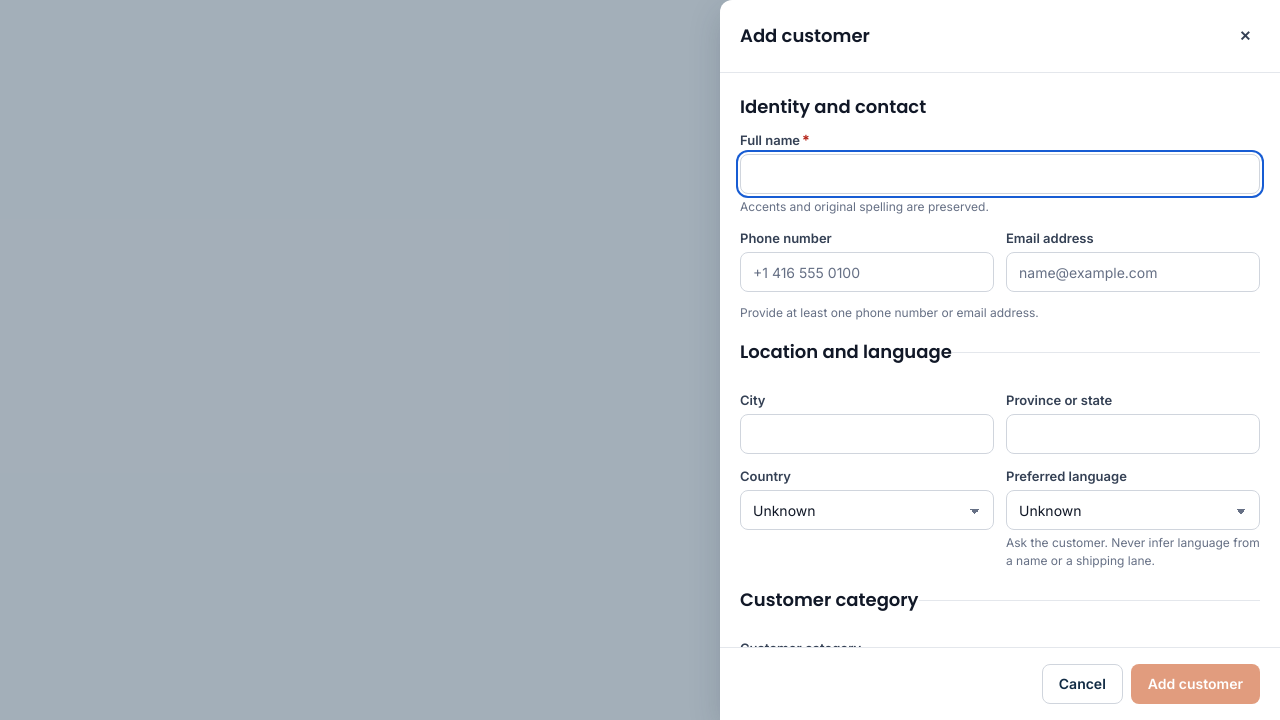
Test: Add customer › error summary › puts a server field error in the summary and beside the field
# A shape the browser accepts and the server still refuses.
Type "Trần Văn Bình" into the field labelled "Full name" at (1000, 174), box x1=740 y1=154 x2=1260 y2=194
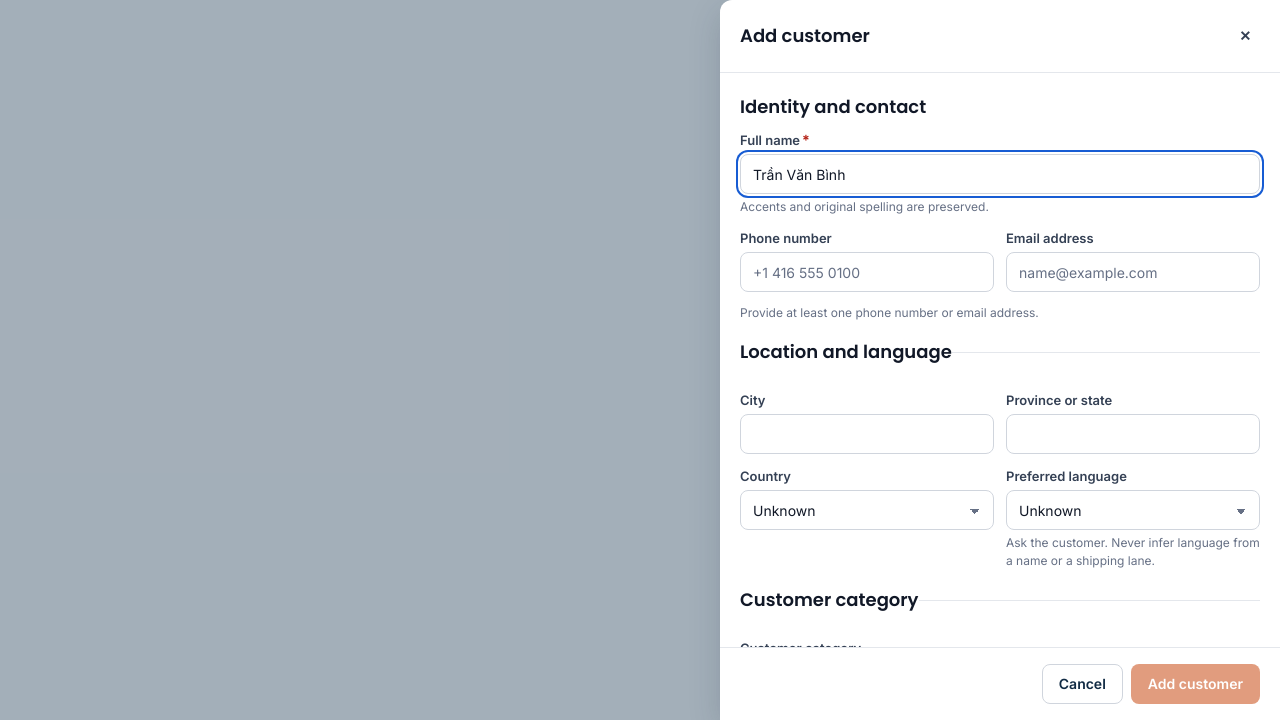
Type "binh@example.com" into the field labelled "Email address" at (1133, 272), box x1=1006 y1=252 x2=1260 y2=292
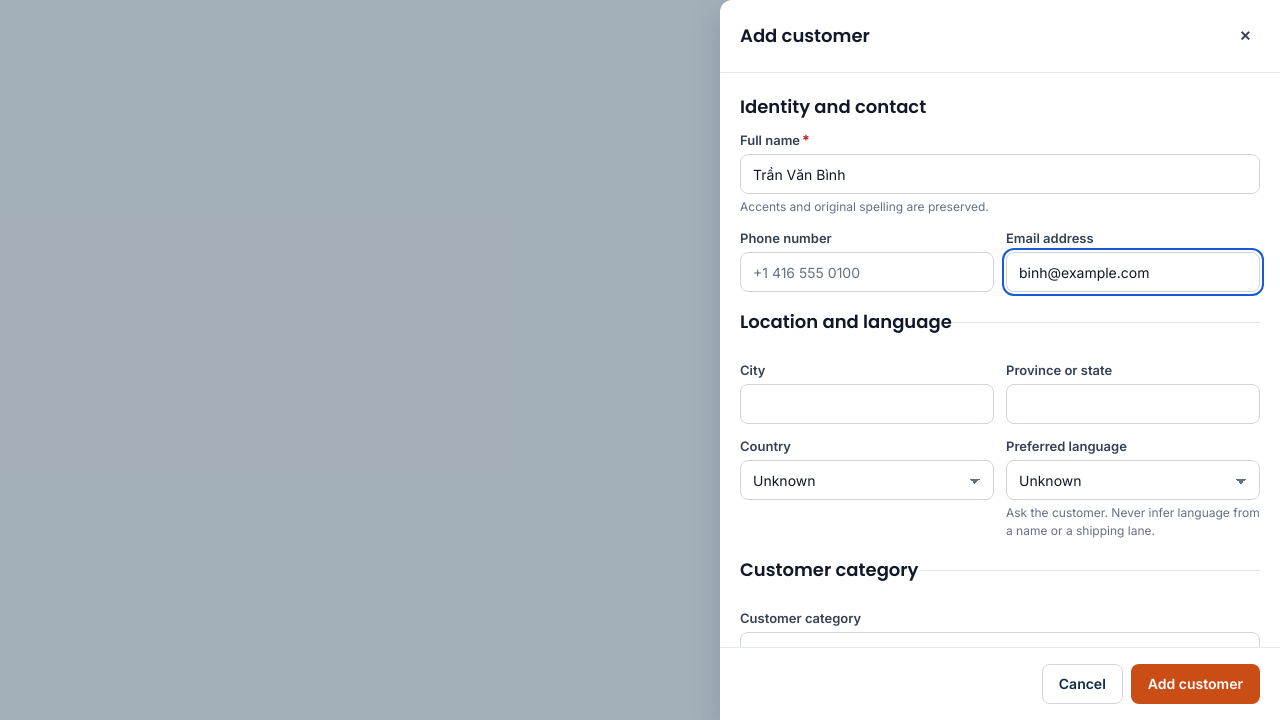
Click the button "Add customer" at (1195, 684), box x1=1131 y1=664 x2=1260 y2=704
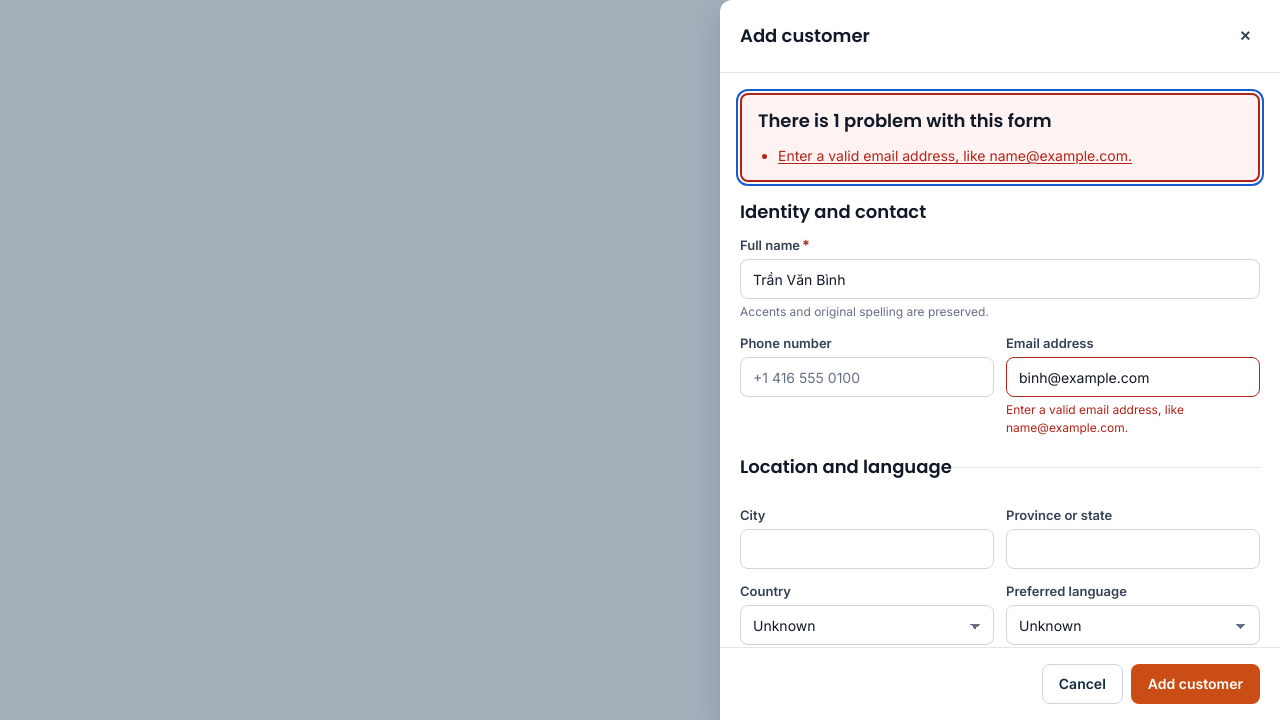
expect the link "Enter a valid email address, like name@example.com." is shown: met, box x1=778 y1=143 x2=1132 y2=168
expect the number of links "Enter a valid email address, like name@example.com." is 2: met, box x1=778 y1=143 x2=1132 y2=168; x1=1006 y1=402 x2=1184 y2=435
# Editing the field withdraws its error.
Type "x" into the field labelled "Email address" at (1133, 377), box x1=1006 y1=357 x2=1260 y2=397
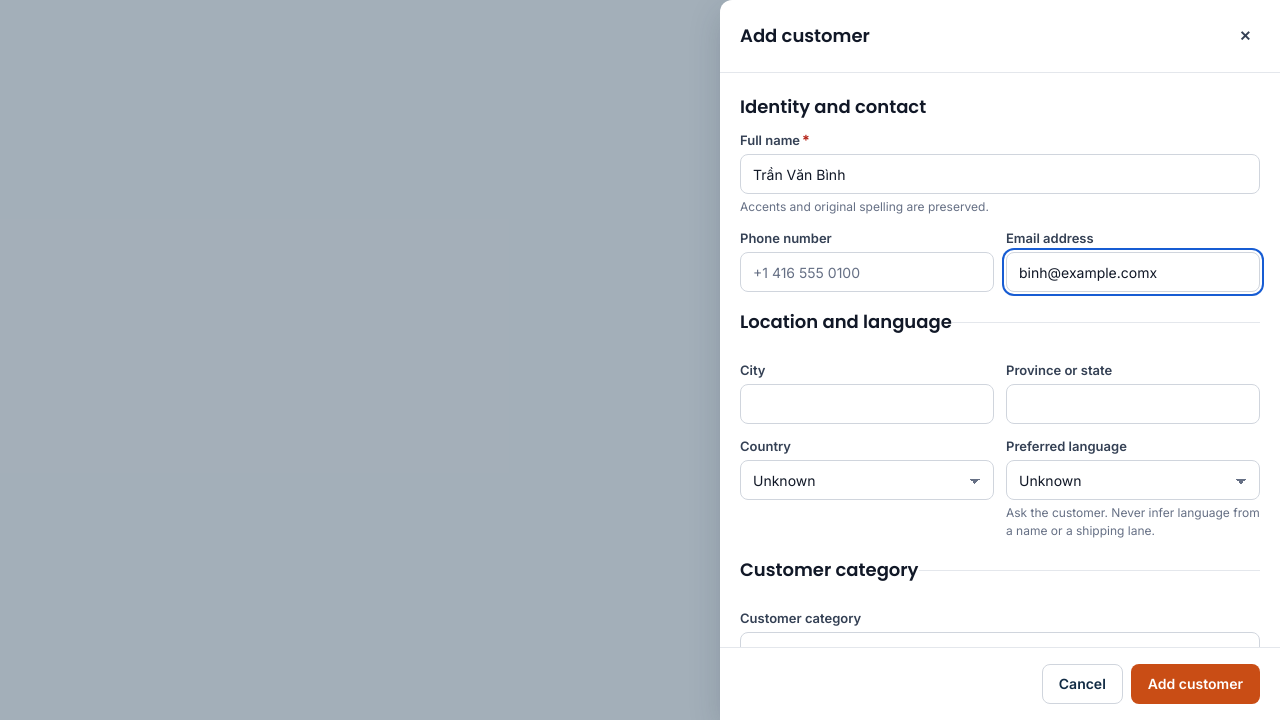
expect the link "Enter a valid email address, like name@example.com." is gone: met
